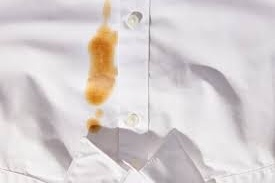coffee: (89, 36, 112, 103), (87, 119, 99, 133)
